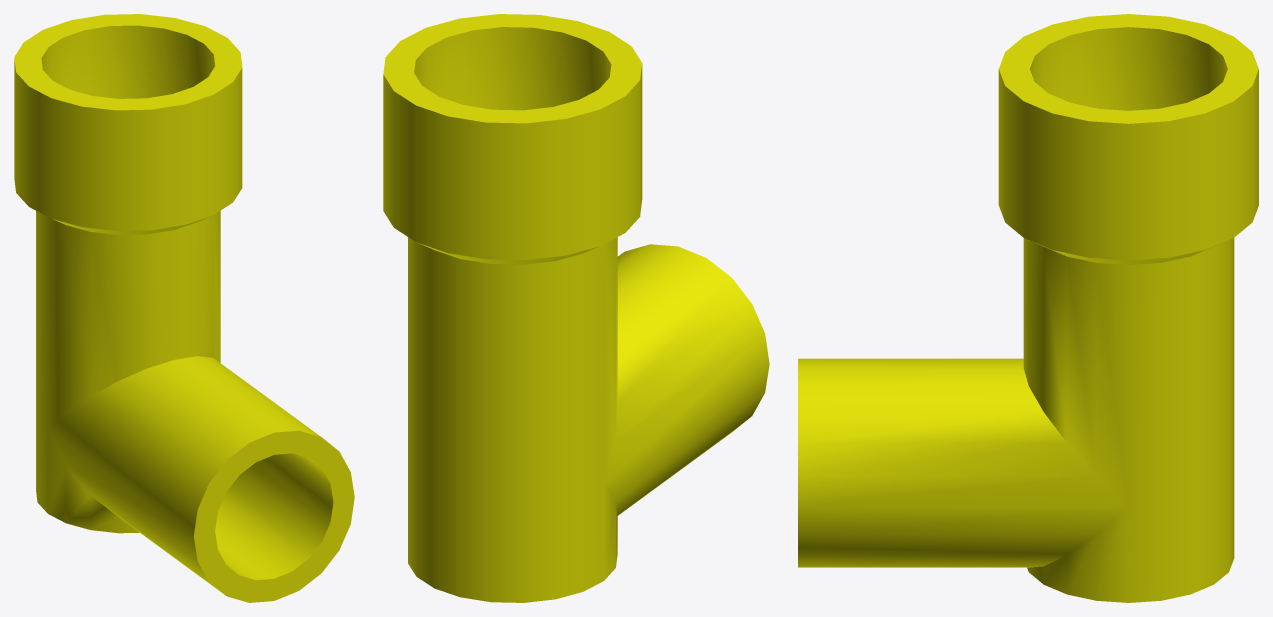
Rendered from SM_pipeCorner.fbx.
3 views of the same model, side by side, from view 1: azimuth 30°, elevation 25°; view 2: azimuth 150°, elevation 25°; view 3: azimuth 270°, elevation 25° (orthographic). The views are drawn at different scales.
Parts seen in each view (by area): view 1: pCylinder43; view 2: pCylinder43; view 3: pCylinder43.
Part boxes in pixels (x1,y1,x2,y2): pCylinder43: [14, 14, 354, 602]; pCylinder43: [383, 14, 769, 602]; pCylinder43: [798, 14, 1258, 602].
Bounding box in the file's own units: 21.65 × 45.25 × 38.36.
